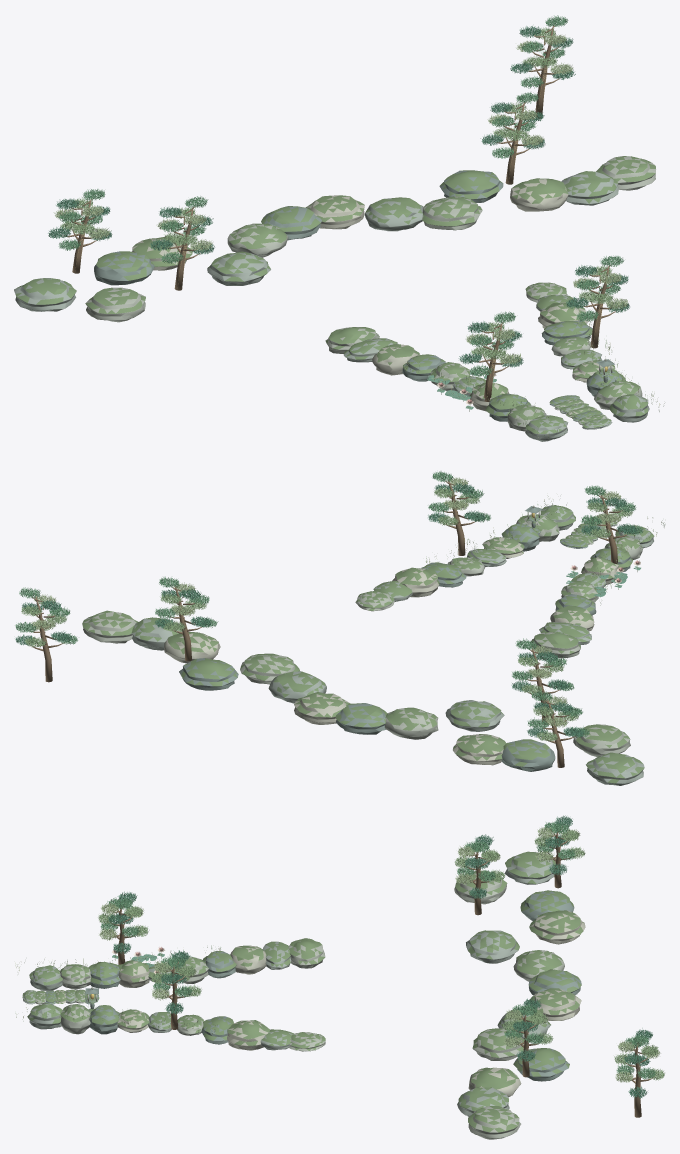
Rendered from shore.glb.
The picture shows the model from 3 angles, top to bottom: view 1: azimuth 30°, elevation 25°; view 2: azimuth 150°, elevation 25°; view 3: azimuth 270°, elevation 25°; orthographic projection. The views are drawn at different scales.
Visible parts, largest first — view 1: Shore_1, Shore_0, Shore_2, Shore_3, Shore_9, Shore_8, Shore_7, Shore_11, Shore_10, Shore_12; view 2: Shore_1, Shore_0, Shore_2, Shore_3, Shore_9, Shore_8, Shore_7, Shore_10, Shore_11; view 3: Shore_1, Shore_0, Shore_3, Shore_2, Shore_8, Shore_9, Shore_10, Shore_11, Shore_7.
Part boxes in pixels (x1,y1,x2,y2): Shore_1: (85,156,655,431); Shore_0: (14,171,649,441); Shore_2: (94,170,625,421); Shore_3: (132,178,615,417); Shore_9: (58,15,624,376); Shore_8: (48,26,629,367); Shore_7: (62,26,618,401); Shore_11: (53,33,628,364); Shore_10: (60,27,613,360); Shore_12: (75,67,602,401); Shore_1: (82,514,643,756); Shore_0: (131,505,654,785); Shore_2: (179,516,632,771); Shore_3: (164,527,618,765); Shore_9: (15,471,643,737); Shore_8: (15,482,638,737); Shore_7: (29,479,627,767); Shore_10: (21,487,632,741); Shore_11: (30,477,621,727); Shore_1: (35,870,564,1139); Shore_0: (22,851,555,1116); Shore_3: (55,910,585,1097); Shore_2: (45,890,581,1081); Shore_8: (108,815,652,1098); Shore_9: (100,821,656,1079); Shore_10: (98,829,664,1080); Shore_11: (99,827,660,1082); Shore_7: (111,826,652,1117).
Size of the model in its own units: 41.39 by 7.04 by 40.8.
